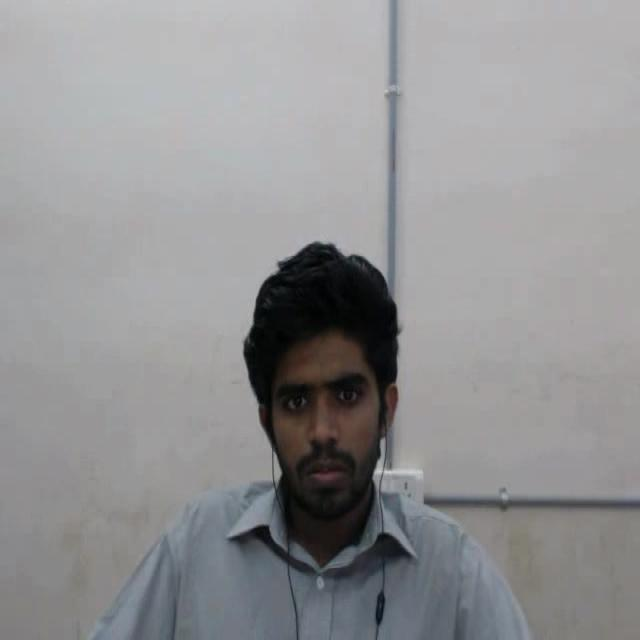Engaged: (232, 199, 424, 566)
